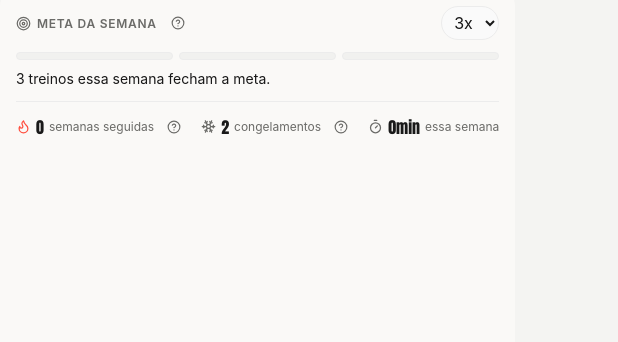
Test: MetaSemana › explica os conceitos quando alguem pergunta › o congelamento: o que faz, quantos da e quanto guarda
This screenshot has width=618, height=342.
Click the button named "O que e um congelamento?".
click(341, 127)  # box [328,114,354,140]
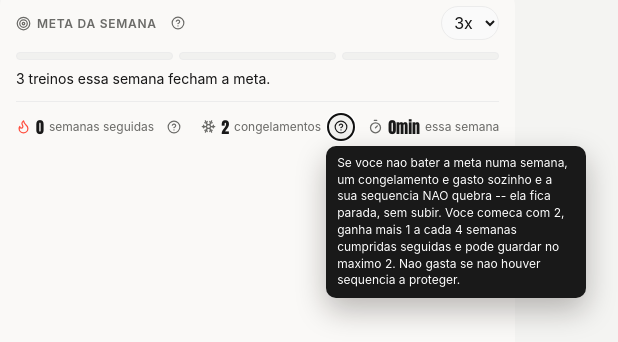
Expected: the tooltip shows "a sua sequencia NAO quebra", [337,155,568,288]
Expected: the tooltip shows "1 a cada 4 semanas cumpridas seguidas", [337,155,568,288]
Expected: the tooltip shows "no maximo 2", [337,155,568,288]
